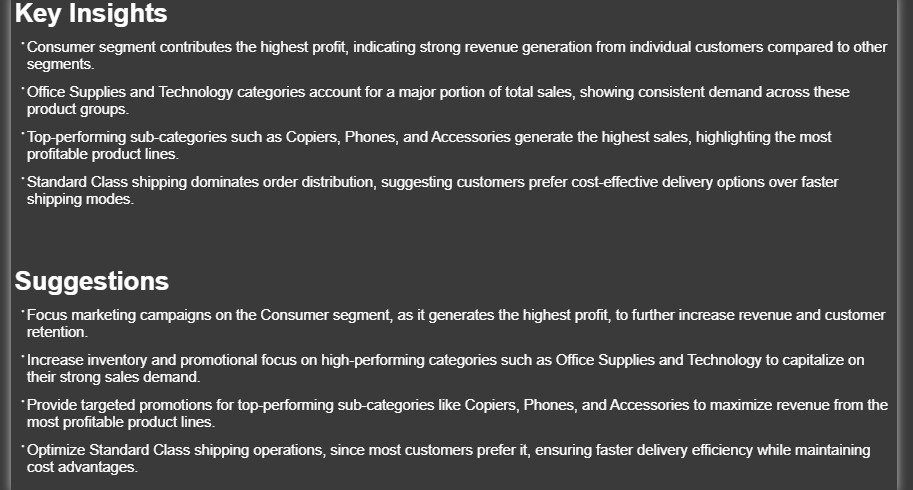

The page's visual inventory and layout, read from the dashboard file:
{"tool":"powerbi","page":{"name":"Insights and suggestions","canvas":[1280,720],"ordinal":2},"visuals":[{"type":"textbox","box":[0,0,1279.5,334],"z":0},{"type":"textbox","box":[0,387.5,1279.5,332.5],"z":1}]}

Visuals, with their boxes on the page's 1280x720 design canvas (x1, y1, x2, y2). These are canvas units, not pixel positions in the 913x490 screenshot, which may show the page scaled, cropped or inside an application window:
textbox: 0 0 1280 334
textbox: 0 388 1280 720
